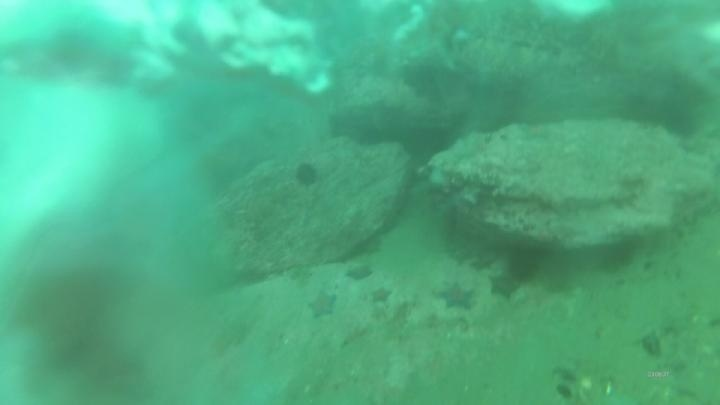echinus: (599, 237, 644, 276), (538, 259, 578, 298), (503, 247, 543, 285), (292, 160, 321, 189)
starfish: (432, 278, 479, 315), (486, 269, 524, 303), (305, 288, 340, 322), (517, 120, 555, 145), (342, 261, 376, 284), (367, 284, 395, 307)
